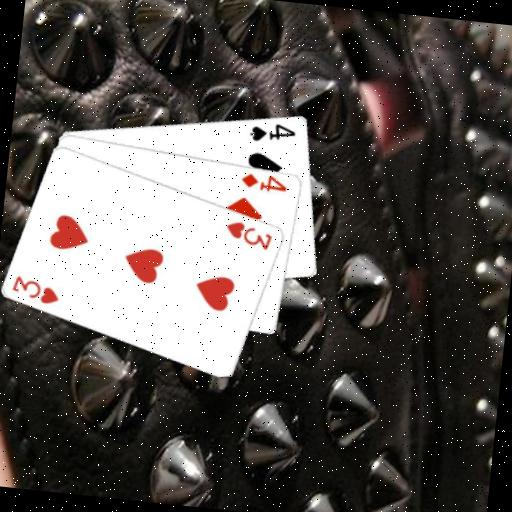3H: (8, 271, 63, 307), (222, 217, 275, 252)
4D: (239, 169, 291, 195)
4S: (247, 117, 299, 147)
